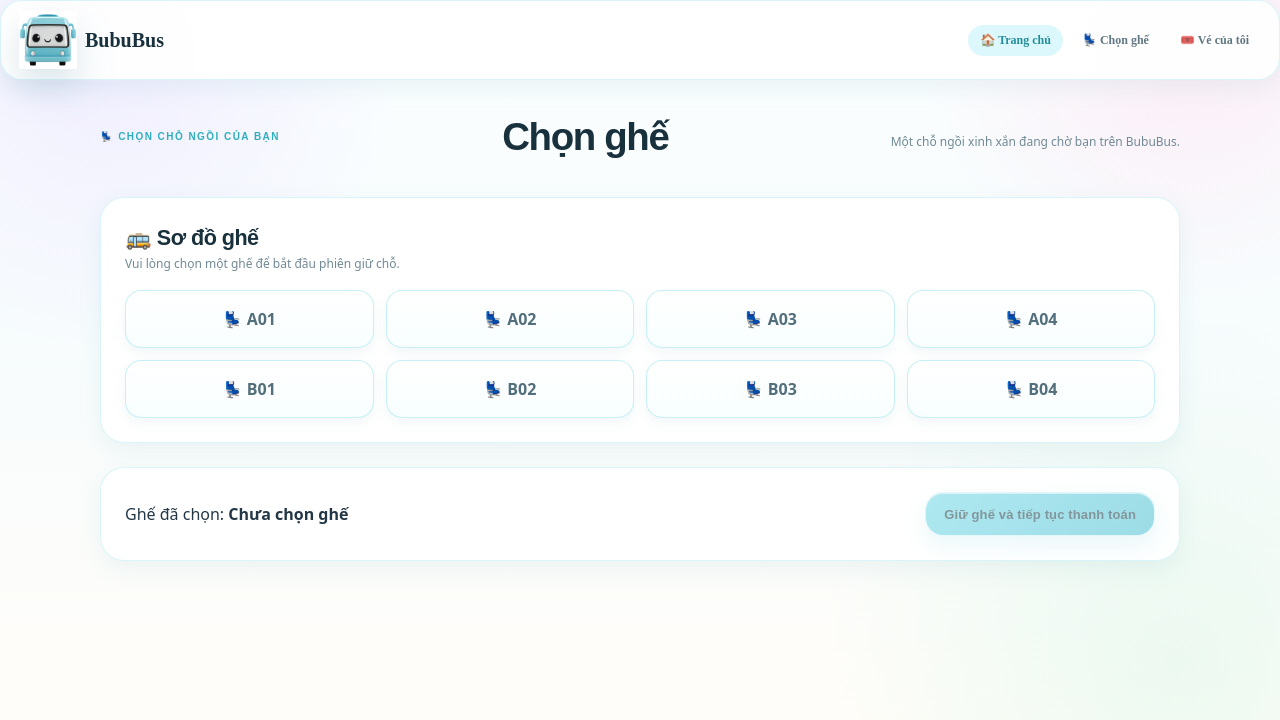
Scenario: SelectSeat › hiển thị nút thanh toán sau khi tạo phiên giữ chỗ
Step 1. Click the button "💺 A02" → click(510, 319), box [386, 290, 634, 348]
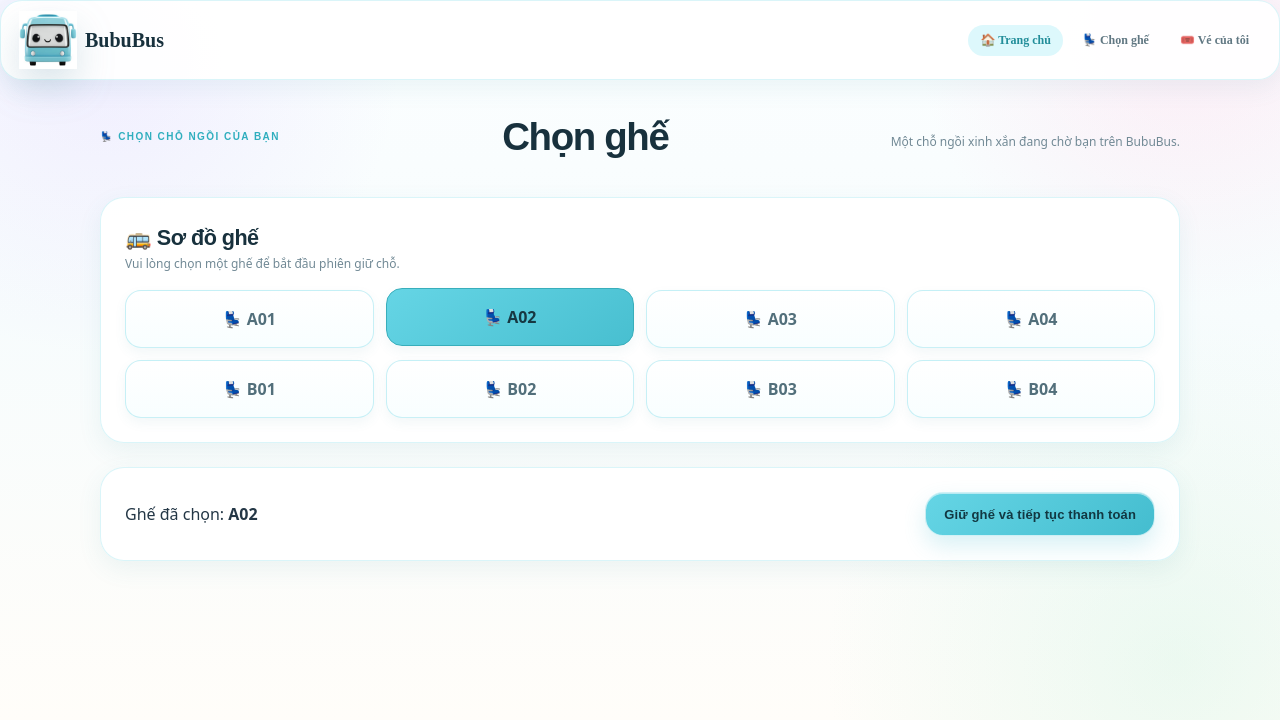
Step 2. Click the button "Giữ ghế và tiếp tục thanh toán" → click(1040, 514), box [925, 492, 1155, 536]
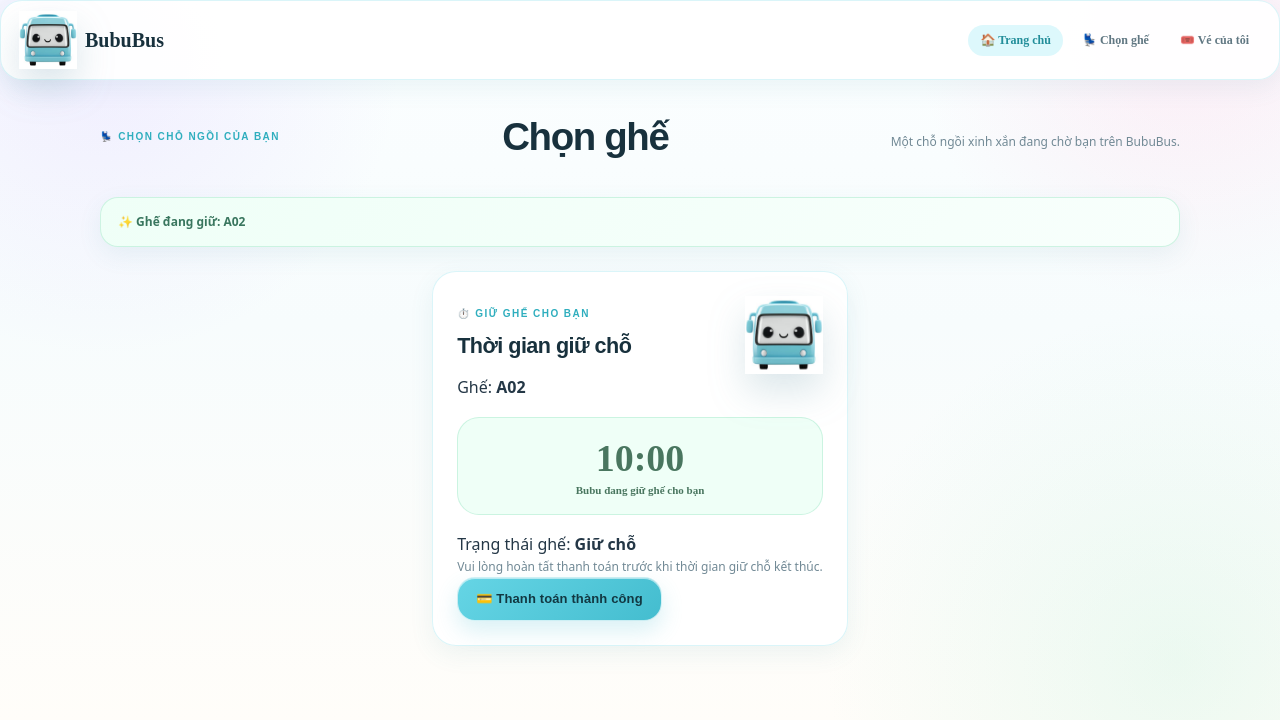
Check: the button "💳 Thanh toán thành công" is shown, box [457, 577, 662, 621]
